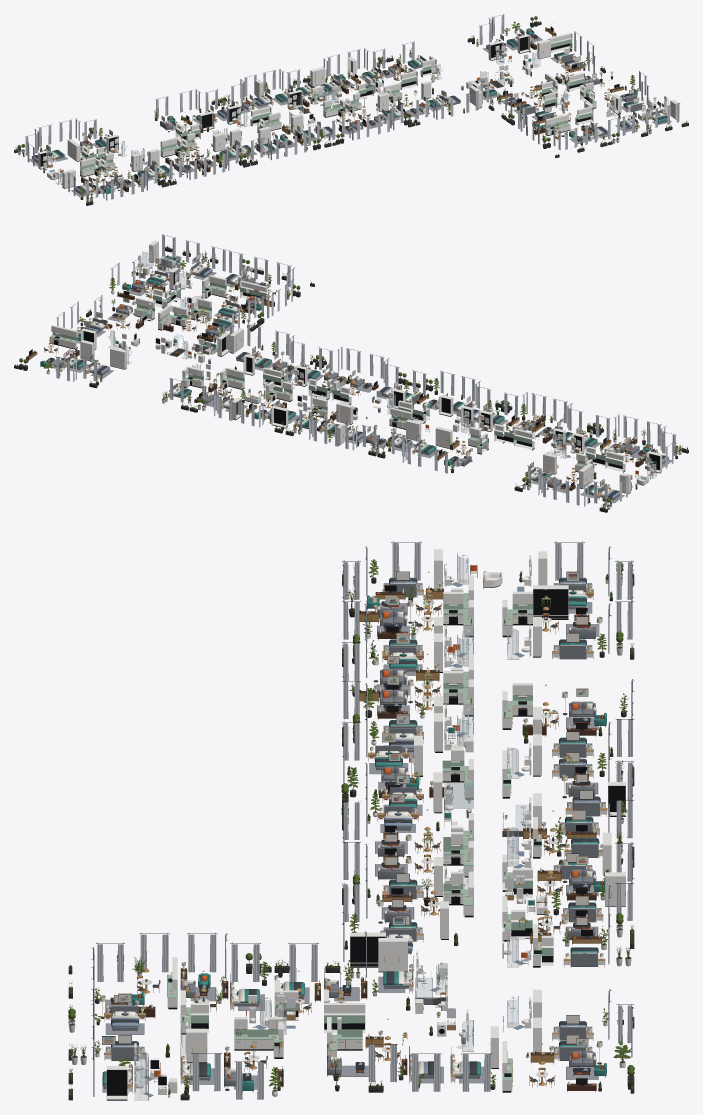
3 views of the same model, one above another, from view 1: azimuth 30°, elevation 25°; view 2: azimuth 150°, elevation 25°; view 3: azimuth 270°, elevation 25° (orthographic). The views are drawn at different scales.
Visible parts, largest first — view 1: in_L08_u135_furn_kitchen_run1__int_white_gloss, in_L08_u132_furn_kitchen_run1__int_white_gloss; view 2: in_L08_u132_furn_kitchen_run1__int_white_gloss; view 3: in_L08_u134_furn_kitchen_run1__int_white_gloss, in_L08_u146_furn_wardrobe1__int_white_gloss, in_L08_u137-a_furn_kitchen_run1__int_white_gloss, in_L08_u138_furn_wardrobe2__int_white_gloss, in_L08_u137-a_furn_wardrobe1__int_white_gloss.
Part boxes in pixels (left/top/right/bottom): in_L08_u135_furn_kitchen_run1__int_white_gloss: left=545, top=114, right=570, bottom=135; in_L08_u132_furn_kitchen_run1__int_white_gloss: left=548, top=33, right=572, bottom=52; in_L08_u132_furn_kitchen_run1__int_white_gloss: left=49, top=325, right=78, bottom=349; in_L08_u134_furn_kitchen_run1__int_white_gloss: left=234, top=1017, right=283, bottom=1050; in_L08_u146_furn_wardrobe1__int_white_gloss: left=533, top=585, right=568, bottom=619; in_L08_u137-a_furn_kitchen_run1__int_white_gloss: left=324, top=1003, right=365, bottom=1032; in_L08_u138_furn_wardrobe2__int_white_gloss: left=350, top=932, right=385, bottom=967; in_L08_u137-a_furn_wardrobe1__int_white_gloss: left=378, top=938, right=407, bottom=972.
Size of the model in its own units: 82.6 by 3 by 37.98.
